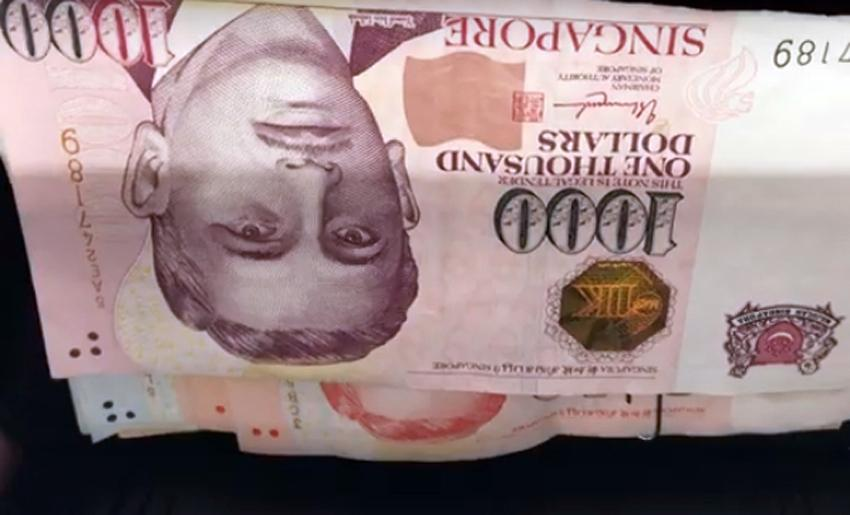1000SingaporeDollar: (0, 0, 850, 376)
